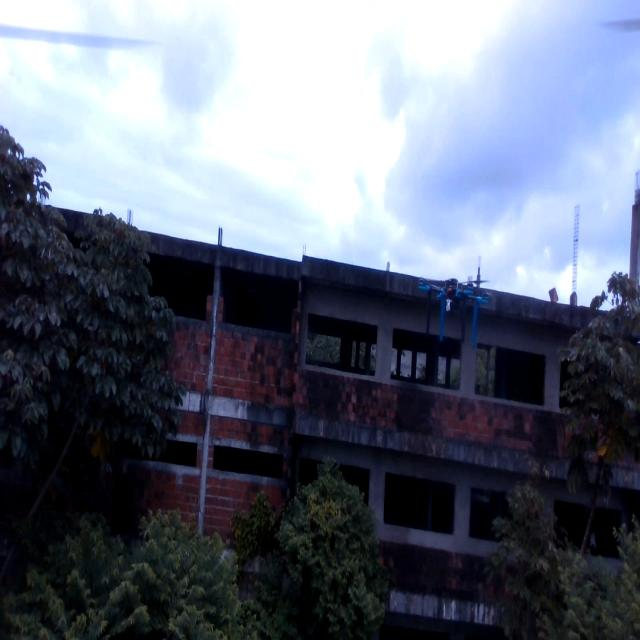-uav-: (406, 242, 496, 371)
